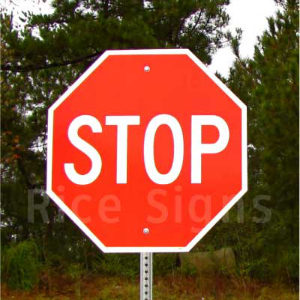STOP_SIGN: (47, 48, 247, 252)
